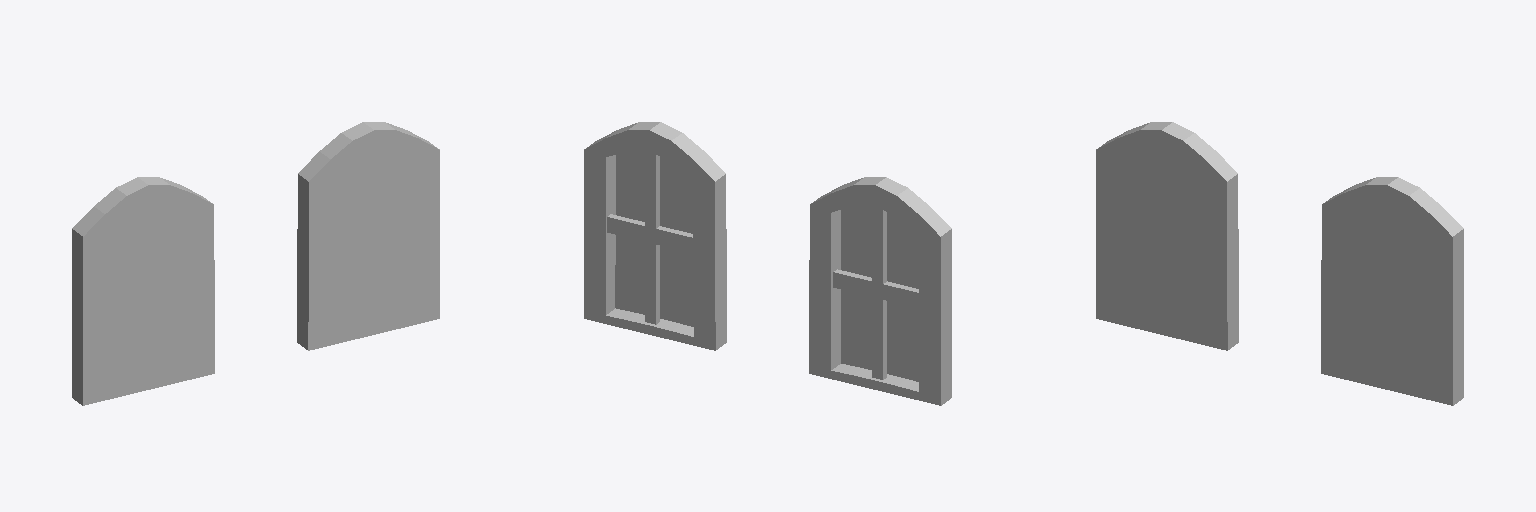
The model's file is curve-window-frames.obj.
3 renders of one model, left to right at view 1: azimuth 30°, elevation 25°; view 2: azimuth 150°, elevation 25°; view 3: azimuth 330°, elevation 25°, orthographic.
Visible parts, largest first — view 1: curve-window-frames; view 2: curve-window-frames; view 3: curve-window-frames.
Boxes of the visible parts, <box> form: curve-window-frames: <box>72,122,439,405</box>; curve-window-frames: <box>584,122,951,405</box>; curve-window-frames: <box>1096,122,1463,405</box>.
Bounding box in the file's own units: 1.82 × 0.9957 × 0.0992.